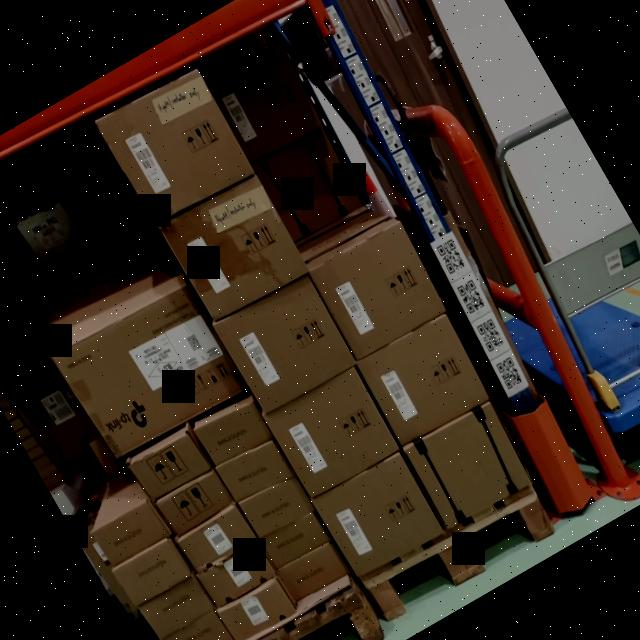box: (51, 285, 249, 458), (98, 66, 252, 222), (162, 176, 308, 322), (217, 276, 357, 414), (312, 224, 444, 358), (357, 316, 491, 445), (266, 367, 399, 496), (405, 404, 533, 530), (316, 456, 442, 578), (203, 42, 323, 162), (251, 128, 362, 241), (129, 430, 211, 501), (113, 538, 192, 608), (177, 505, 257, 574), (197, 540, 278, 608), (155, 469, 235, 536), (91, 501, 172, 566), (138, 575, 216, 640), (216, 439, 295, 503), (195, 401, 274, 464), (218, 577, 297, 640), (239, 476, 315, 537), (258, 511, 331, 569), (277, 542, 350, 600), (163, 610, 234, 640), (43, 471, 65, 491), (38, 463, 59, 480), (32, 454, 52, 471), (21, 435, 39, 452), (27, 445, 46, 461), (15, 426, 32, 441), (10, 417, 25, 431), (4, 407, 18, 421), (0, 397, 12, 411), (0, 388, 6, 400)
